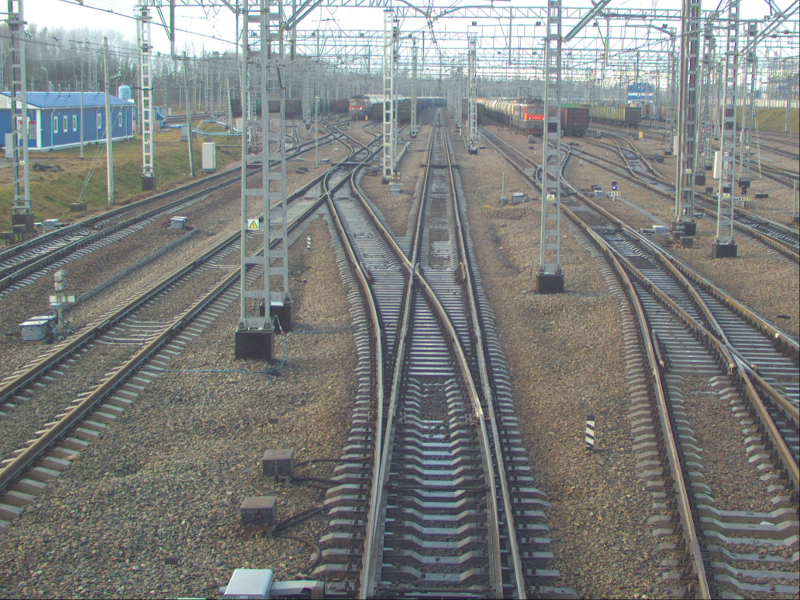right: (357, 265, 534, 598)
